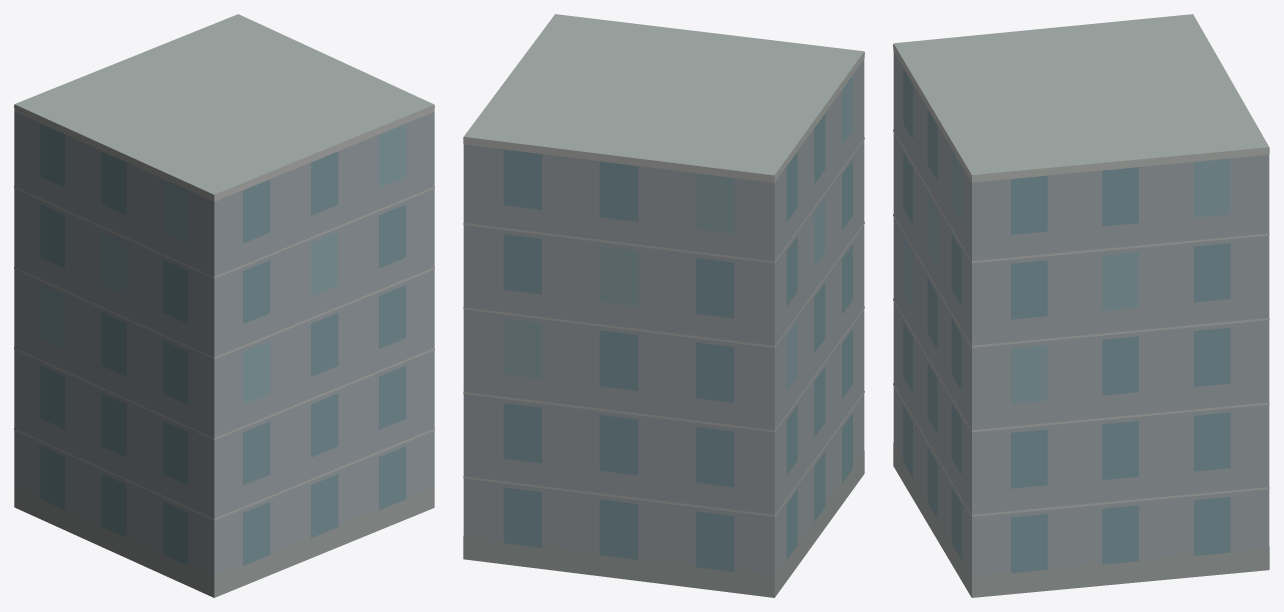
File: survey-upis-32934795.glb
The picture shows the model from 3 angles, left to right: view 1: azimuth 30°, elevation 25°; view 2: azimuth 150°, elevation 25°; view 3: azimuth 270°, elevation 25°; orthographic projection. The views are drawn at different scales.
Parts seen in each view (by area): view 1: survey-upis-32934795.tmp; view 2: survey-upis-32934795.tmp; view 3: survey-upis-32934795.tmp.
Part boxes in pixels (x1=…): survey-upis-32934795.tmp: x1=14, y1=14, x2=434, y2=597; survey-upis-32934795.tmp: x1=463, y1=14, x2=864, y2=597; survey-upis-32934795.tmp: x1=893, y1=14, x2=1269, y2=597.
Bounding box in the file's own units: 11.35 × 13.85 × 11.19.
